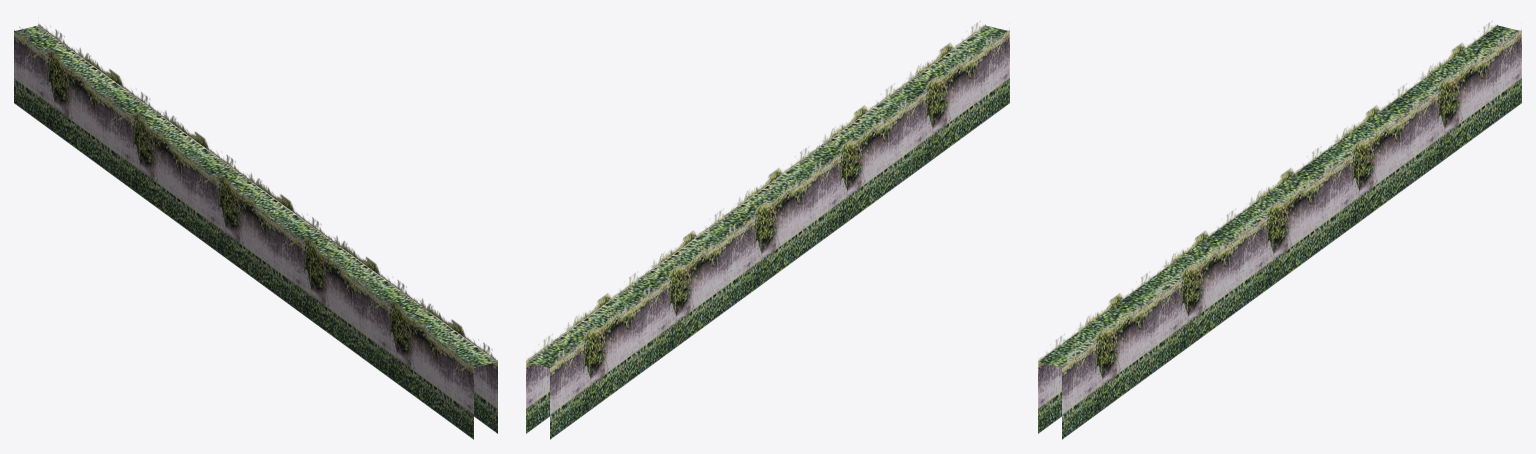
Rendered from Environment - Prop - Wal Pnt 01 - PMWalPnt01.glb.
3 renders of one model, left to right at view 1: azimuth 30°, elevation 25°; view 2: azimuth 150°, elevation 25°; view 3: azimuth 330°, elevation 25°, orthographic.
Parts seen in each view (by area): view 1: PMWALPNT01; view 2: PMWALPNT01; view 3: PMWALPNT01.
Boxes of the visible parts, bbox=[...] form: PMWALPNT01: bbox=[14, 23, 497, 439]; PMWALPNT01: bbox=[526, 21, 1009, 439]; PMWALPNT01: bbox=[1038, 21, 1521, 439].
Size of the model in its own units: 3.01 by 10.04 by 100.
1 material, 1 textured.
